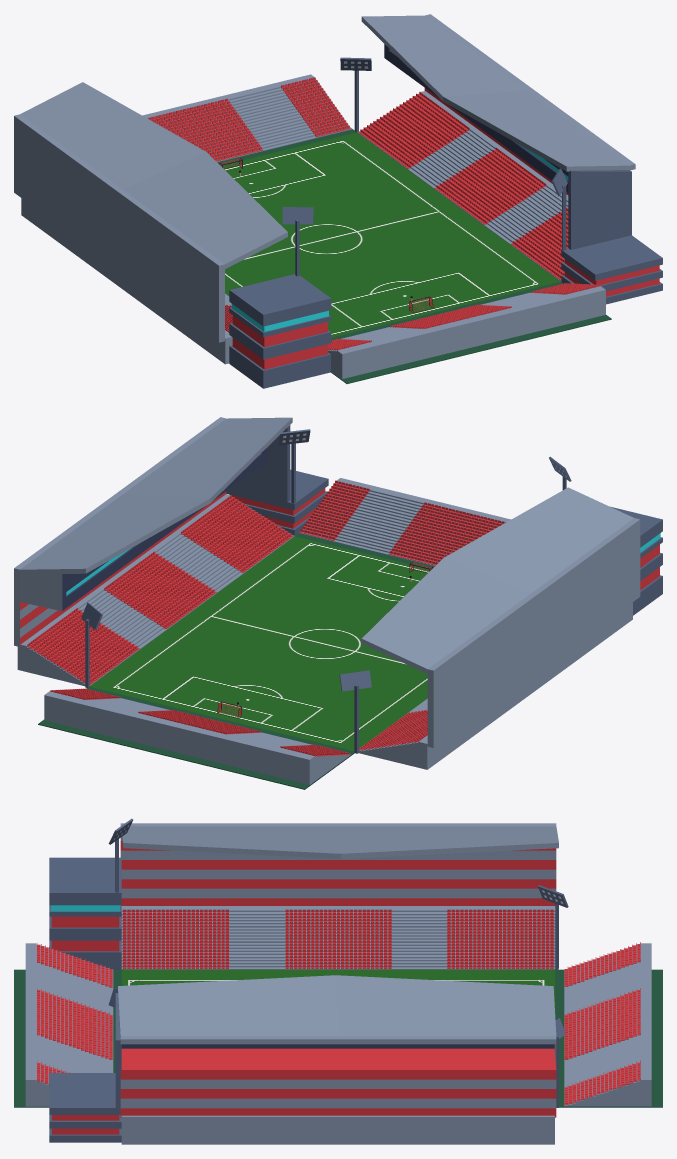
The model's file is Soccer Field With Field Texture Minimalistic.fbx.
3 renders of one model, top to bottom at view 1: azimuth 30°, elevation 25°; view 2: azimuth 150°, elevation 25°; view 3: azimuth 270°, elevation 25°, orthographic. The views are drawn at different scales.
Parts seen in each view (by area): view 1: Cube, Cube.029, Cube.030, Cube.019, Cube.011, Cube.020, Cube.005, Cube.015, Cube.006, Cube.007, Cube.002, Cube.017 (+5 smaller); view 2: Cube, Cube.029, Cube.030, Cube.015, Cube.005, Cube.011, Cube.002, Cube.020, Cube.007, Cube.008, Cube.006, Cube.013 (+5 smaller); view 3: Cube.030, Cube.029, Cube.002, Cube.005, Cube.032, Cube, Cube.015, Cube.011, Cube.019, Cube.004, Cube.003, Cube.001 (+6 smaller).
Part boxes in pixels (box(x1,y1,x2,y2)): Cube: box(217, 127, 611, 383); Cube.029: box(14, 82, 287, 342); Cube.030: box(361, 14, 635, 194); Cube.019: box(229, 274, 331, 388); Cube.011: box(328, 286, 605, 378); Cube.020: box(561, 170, 662, 304); Cube.005: box(357, 91, 568, 281); Cube.015: box(142, 74, 351, 162); Cube.006: box(358, 91, 469, 168); Cube.007: box(434, 147, 546, 224); Cube.002: box(21, 198, 232, 364); Cube.017: box(148, 98, 262, 161); Cube: box(38, 533, 434, 789); Cube.029: box(361, 487, 640, 747); Cube.030: box(14, 417, 292, 646); Cube.015: box(44, 691, 350, 784); Cube.005: box(17, 494, 294, 686); Cube.011: box(299, 478, 510, 566); Cube.002: box(359, 602, 632, 769); Cube.020: box(226, 425, 328, 535); Cube.007: box(104, 551, 216, 628); Cube.008: box(181, 495, 293, 572); Cube.006: box(27, 607, 139, 684); Cube.013: box(388, 502, 505, 565); Cube.030: box(118, 975, 556, 1117); Cube.029: box(120, 823, 558, 905); Cube.002: box(121, 906, 555, 969); Cube.005: box(121, 1115, 554, 1144); Cube.032: box(121, 1044, 556, 1069); Cube: box(14, 969, 662, 1107); Cube.015: box(564, 943, 651, 1106); Cube.011: box(25, 943, 113, 1106); Cube.019: box(49, 857, 121, 969); Cube.004: box(447, 909, 553, 968); Cube.003: box(123, 909, 228, 968); Cube.001: box(285, 909, 391, 968).
Size of the model in its own units: 14149 by 4519 by 17970.
2 materials, 2 textured.
